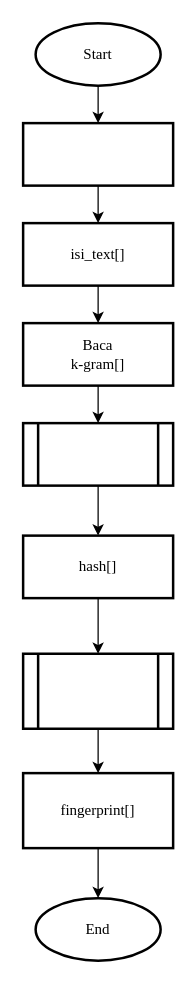
This 195x983 diagram has some shape labels left out. The box of each missing label's shape, as (x1, y1, x2, y2) in pixels:
Jalankan Algoritme fingerprint: (21, 652, 174, 729)
Perhitungan rolling hash: (21, 421, 174, 486)
Select dokumen hasil preprocessing: (21, 121, 174, 186)
